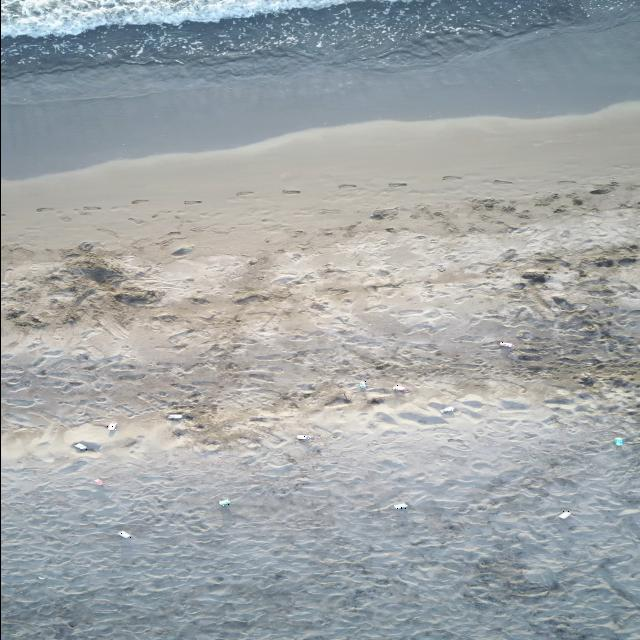Garbage: (72, 440, 100, 451), (520, 272, 547, 283), (580, 373, 593, 386), (367, 395, 384, 404), (172, 248, 192, 255), (72, 442, 87, 451), (557, 510, 571, 519), (296, 433, 311, 440), (219, 497, 230, 506), (167, 412, 181, 419), (393, 384, 406, 391), (440, 406, 453, 413), (118, 529, 131, 536), (357, 380, 366, 390), (393, 502, 407, 508), (500, 340, 512, 347), (343, 391, 350, 402), (613, 436, 624, 443), (107, 423, 116, 431), (436, 263, 444, 271), (95, 479, 103, 484)
